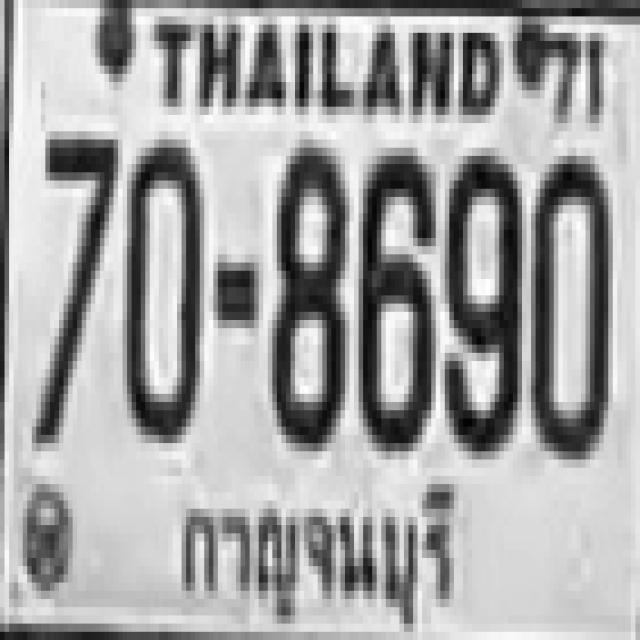0: (527, 148, 608, 451), (123, 131, 200, 435)
6: (354, 148, 431, 443)
7: (34, 127, 116, 439), (38, 127, 116, 423)
8: (268, 140, 340, 443)
9: (440, 148, 518, 451)
Kanchanaburi: (171, 472, 461, 624)
